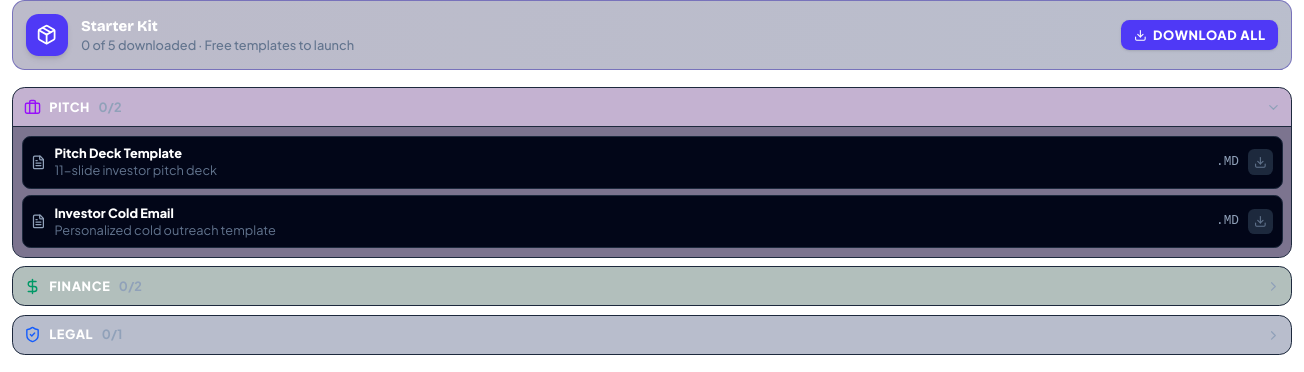
Test: StarterKit › expands Finance category on click
Step 1. Click the text "Finance" → click(80, 286), box [49, 278, 110, 295]
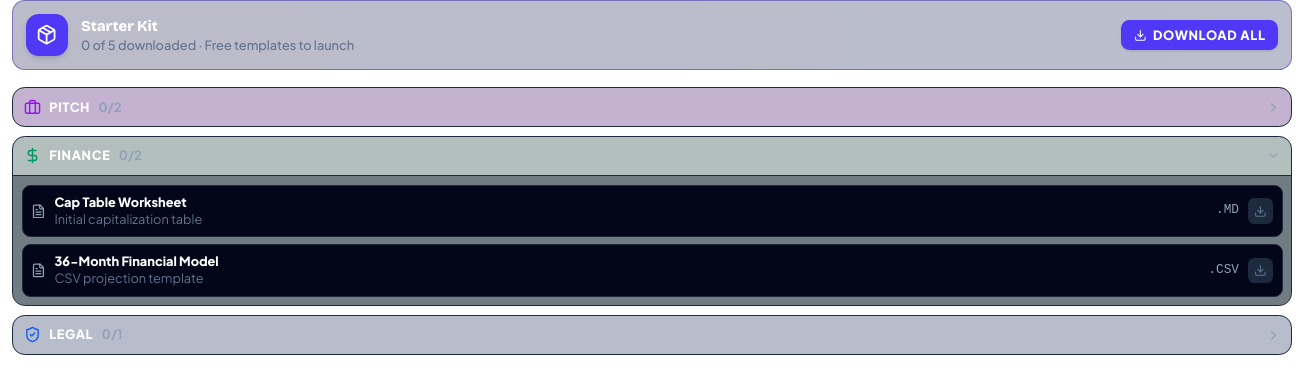
Result: the text "36-Month Financial Model" is shown at [54, 253, 219, 269]
